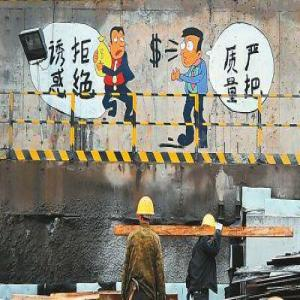yellow: (137, 197, 156, 230), (202, 212, 216, 242)
